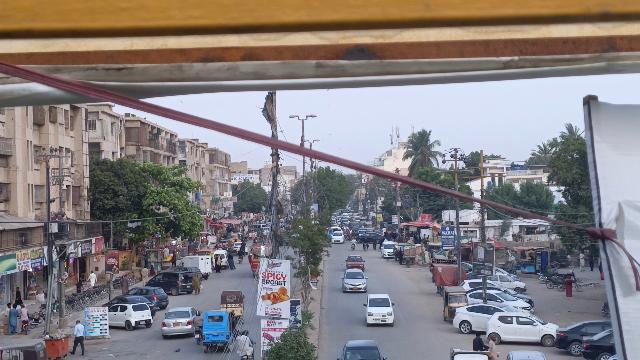Bike: (192, 328, 204, 349), (19, 318, 29, 337)
Bus: (249, 237, 273, 278)
Car: (485, 308, 560, 347), (553, 317, 610, 355), (450, 302, 509, 335), (334, 334, 391, 360), (360, 291, 398, 327), (108, 304, 153, 332), (147, 269, 192, 296), (579, 327, 613, 360), (161, 307, 197, 338), (126, 285, 169, 309), (340, 268, 369, 293)
Person: (72, 319, 87, 357), (485, 331, 499, 360), (236, 330, 252, 355), (9, 302, 19, 334), (469, 330, 484, 350), (191, 271, 202, 296), (192, 309, 204, 328), (19, 303, 30, 321)
Rickshaw: (201, 309, 235, 355), (439, 285, 468, 322), (218, 288, 245, 325)
Truck: (178, 254, 214, 280)
